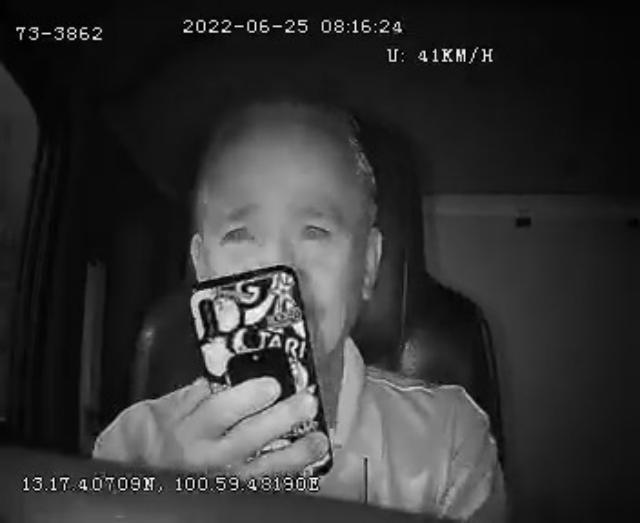PhoneUse: (188, 262, 332, 474)
SafeDriving: (211, 211, 266, 253), (293, 206, 340, 252)
